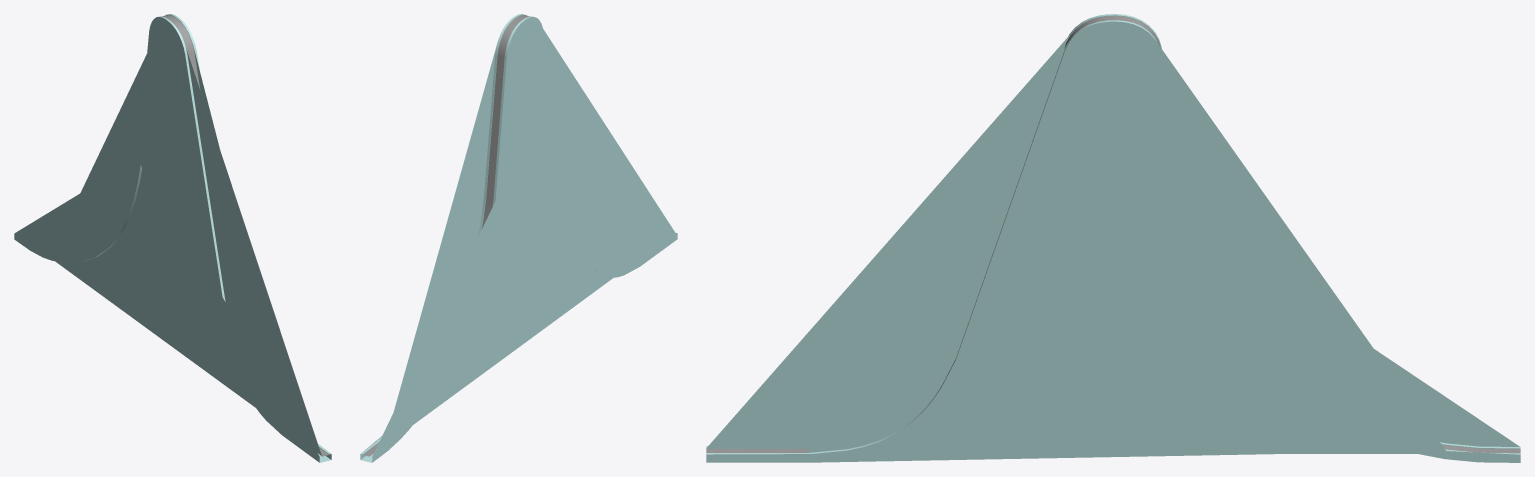
The model's file is hugeupdown.fbx.
3 renders of one model, left to right at view 1: azimuth 30°, elevation 25°; view 2: azimuth 150°, elevation 25°; view 3: azimuth 270°, elevation 25°, orthographic. The views are drawn at different scales.
Visible parts, largest first — view 1: hugeupdown; view 2: hugeupdown; view 3: hugeupdown.
Part boxes in pixels (<box>): hugeupdown: <box>14,14,331,462</box>; hugeupdown: <box>360,14,677,462</box>; hugeupdown: <box>706,14,1520,462</box>.
Size of the model in its own units: 203 by 5483 by 9169.
